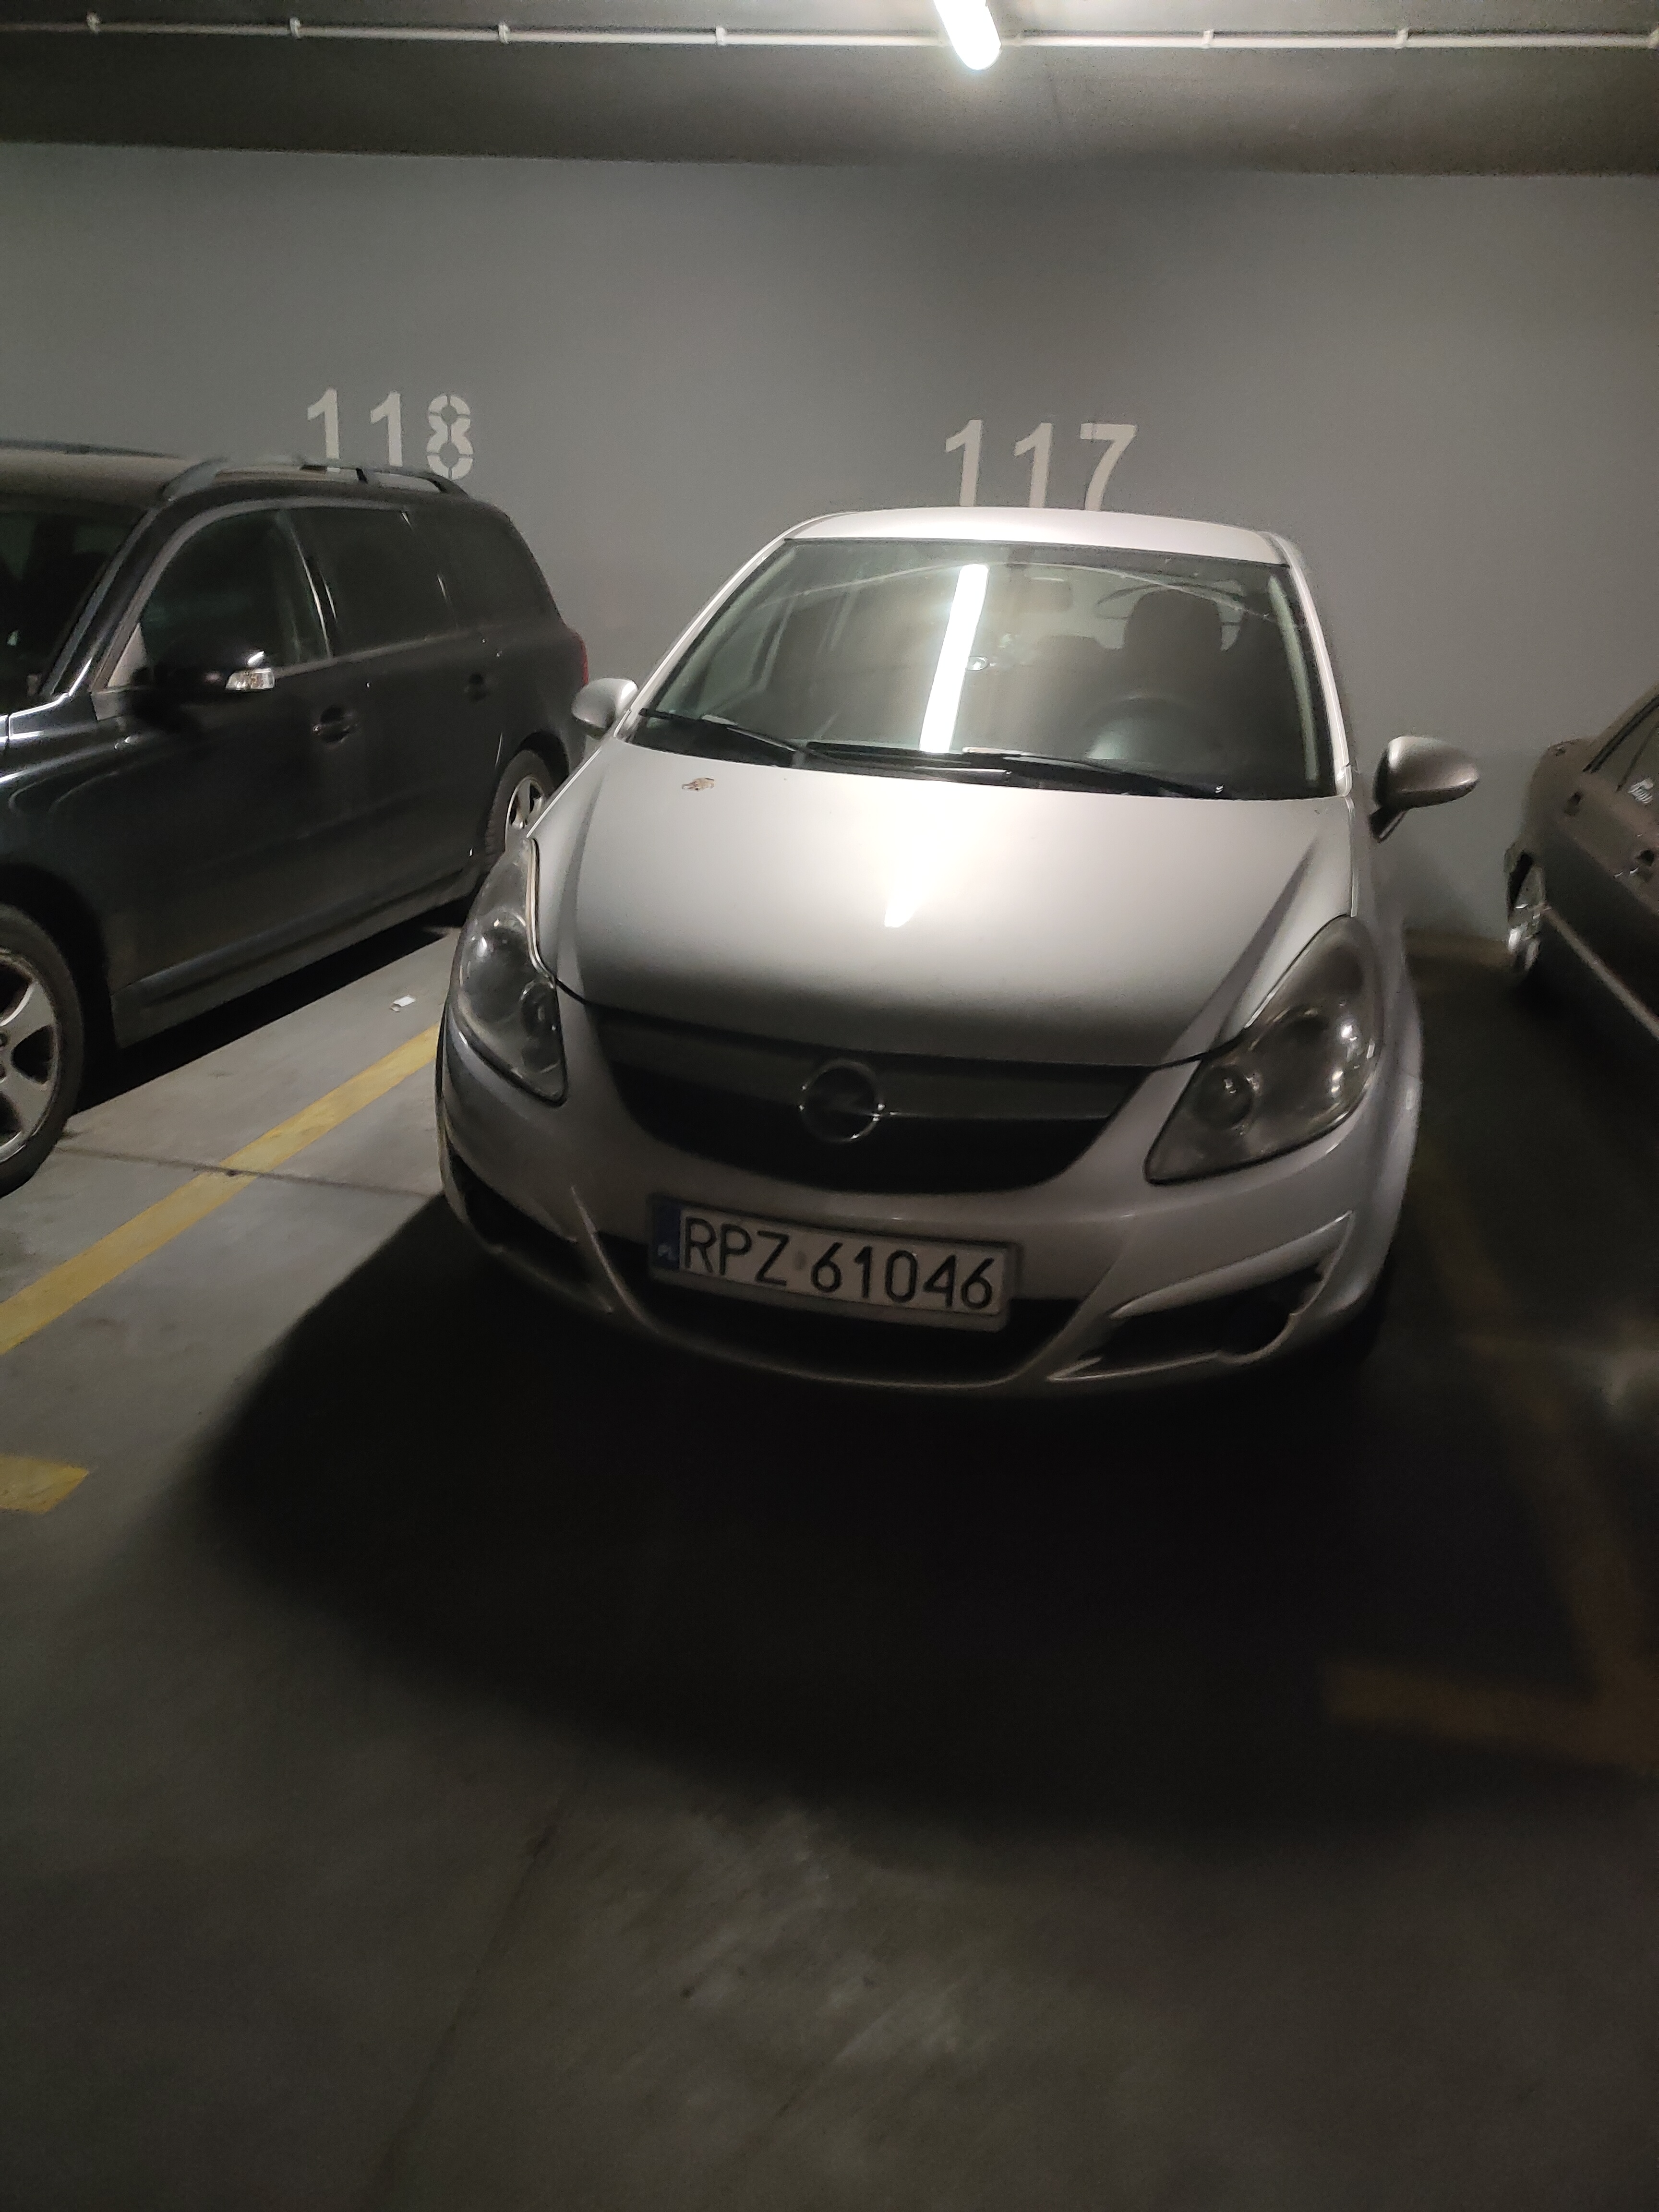number_plate: (645, 1190, 1019, 1341)
